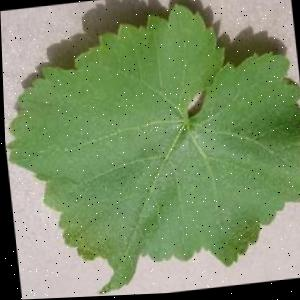Folha: (0, 0, 300, 300)
